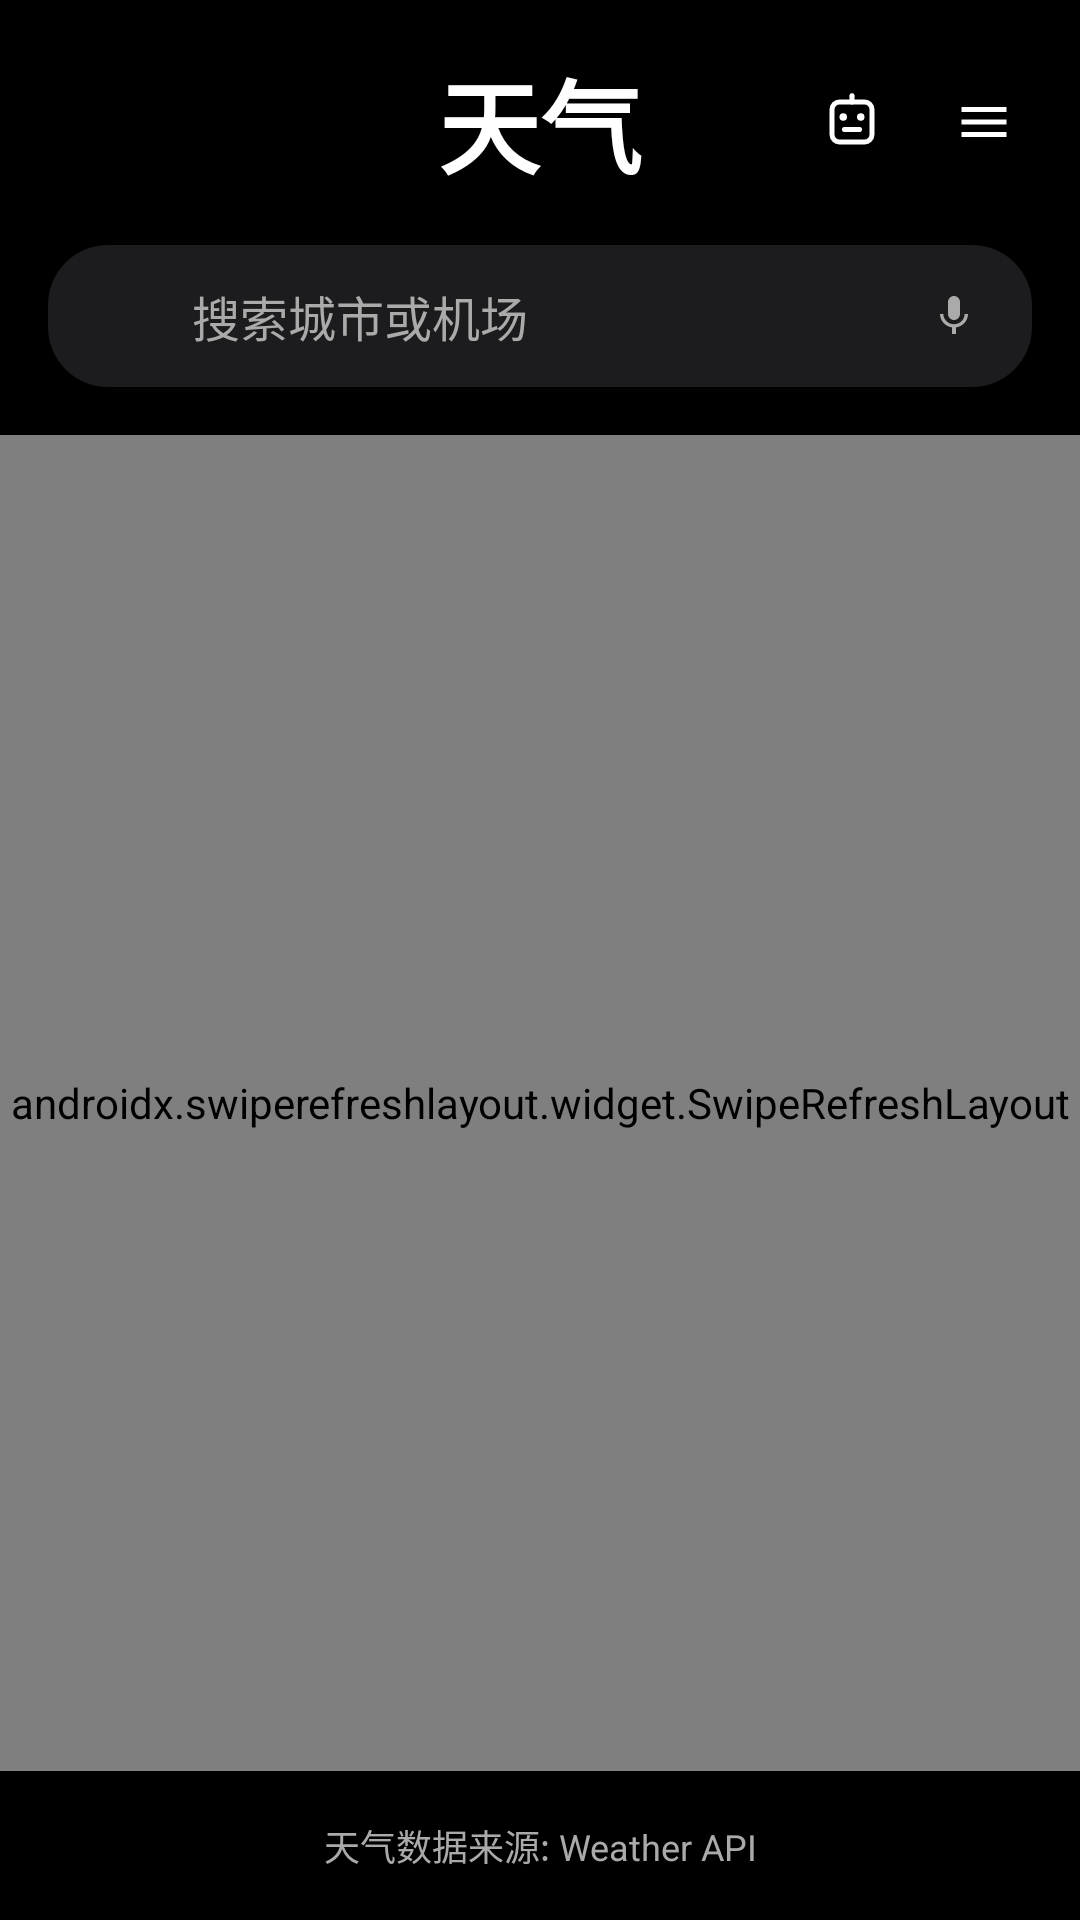

Named icons in this screenshot (1080*1920) and their bounding boxes, [left=x1, top=y1, right=x2, bottom=y2]:
AI天气助手: [left=829, top=93, right=875, bottom=145]
menu: [left=961, top=107, right=1007, bottom=137]
mic: [left=940, top=296, right=968, bottom=334]
